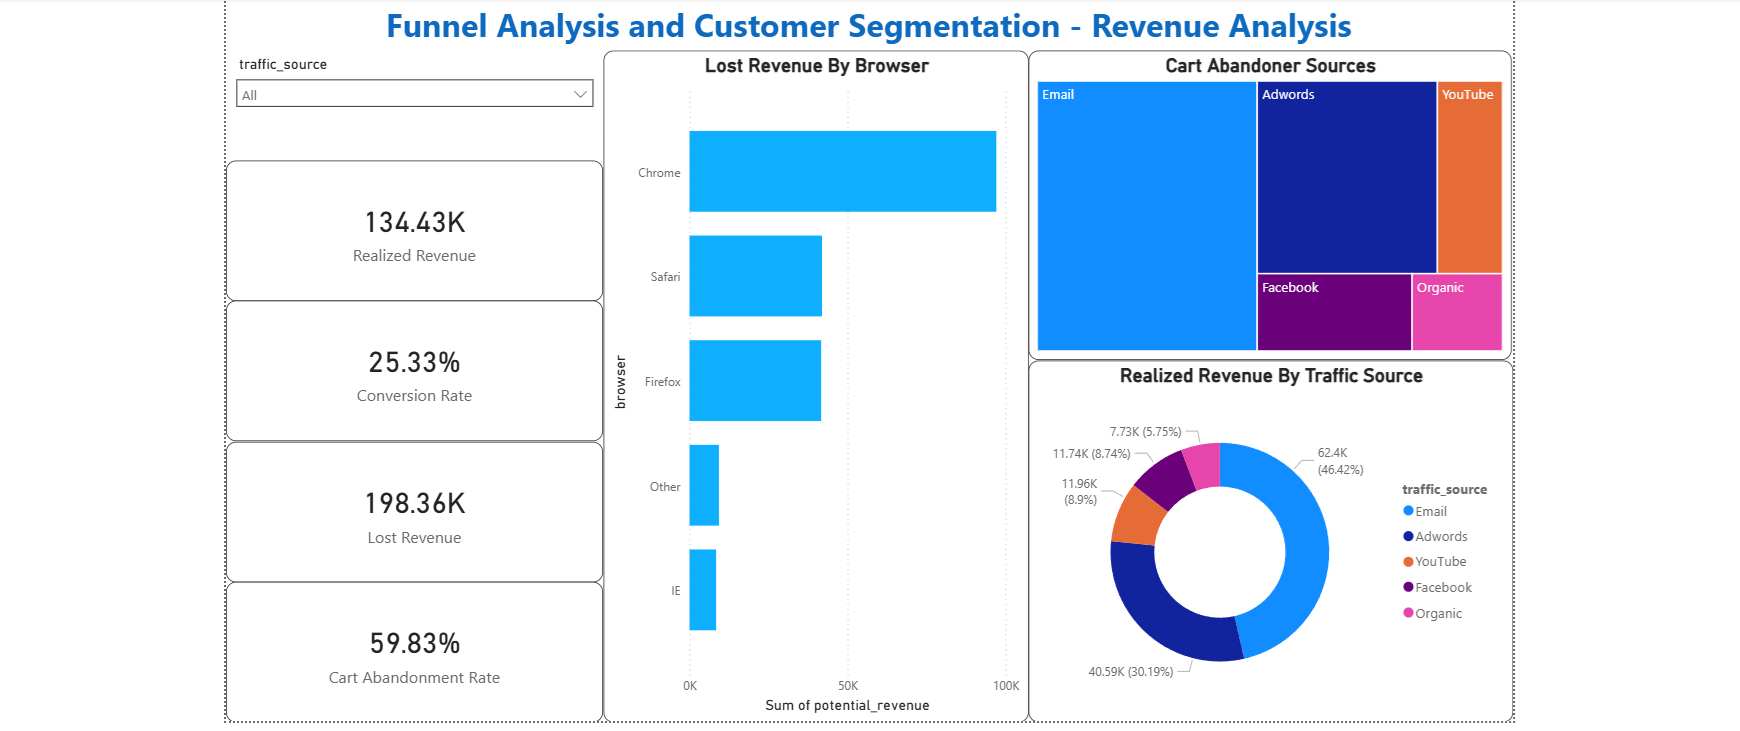

The page's visual inventory and layout, read from the dashboard file:
{"tool":"powerbi","page":{"name":"Revenue Analytics","canvas":[1280,720],"ordinal":0},"visuals":[{"type":"clusteredBarChart","title":"Lost Revenue By Browser","fields":{"Category":["ecommerce_funnel master_session_summary.browser"],"Y":["Sum(ecommerce_funnel master_session_summary.potential_revenue)"]},"box":[375.3,52.1,423.3,668.5],"z":0},{"type":"textbox","box":[0,0,1279.5,52.1],"z":1000},{"type":"donutChart","title":"Realized Revenue By Traffic Source","fields":{"Category":["ecommerce_funnel master_session_summary.traffic_source"],"Y":["Sum(ecommerce_funnel master_session_summary.potential_revenue)"]},"box":[798.6,360.3,482.2,360.3],"z":2000},{"type":"treemap","title":"Cart Abandoner Sources","fields":{"Group":["ecommerce_funnel master_session_summary.traffic_source"],"Values":["Count(ecommerce_funnel master_session_summary.session_id)"]},"box":[798.6,52.1,480.8,308.2],"z":3000},{"type":"card","fields":{"Values":["Sum(ecommerce_funnel master_session_summary.potential_revenue)"]},"box":[0,161.6,375.3,139.7],"z":4000},{"type":"card","fields":{"Values":["ecommerce_funnel master_session_summary.Conversion Rate"]},"box":[0,301.4,375.3,139.7],"z":5000},{"type":"card","fields":{"Values":["Sum(ecommerce_funnel master_session_summary.potential_revenue)"]},"box":[0,441.1,375.3,139.7],"z":6000},{"type":"card","fields":{"Values":["ecommerce_funnel master_session_summary.Cart Abandonment Rate"]},"box":[0,580.8,375.3,139.7],"z":7000},{"type":"slicer","fields":{"Values":["ecommerce_funnel master_session_summary.traffic_source"]},"box":[0,52.1,375.3,86.3],"z":8000}]}

Visuals, with their boxes on the page's 1280x720 design canvas (x1, y1, x2, y2). These are canvas units, not pixel positions in the 1740x731 screenshot, which may show the page scaled, cropped or inside an application window:
"Lost Revenue By Browser" clusteredBarChart: box=[375, 52, 799, 721]
textbox: box=[0, 0, 1280, 52]
"Realized Revenue By Traffic Source" donutChart: box=[799, 360, 1281, 721]
"Cart Abandoner Sources" treemap: box=[799, 52, 1279, 360]
card - Sum(ecommerce_funnel master_session_summary.potential_revenue): box=[0, 162, 375, 301]
card - ecommerce_funnel master_session_summary.Conversion Rate: box=[0, 301, 375, 441]
card - Sum(ecommerce_funnel master_session_summary.potential_revenue): box=[0, 441, 375, 581]
card - ecommerce_funnel master_session_summary.Cart Abandonment Rate: box=[0, 581, 375, 720]
slicer - ecommerce_funnel master_session_summary.traffic_source: box=[0, 52, 375, 138]
